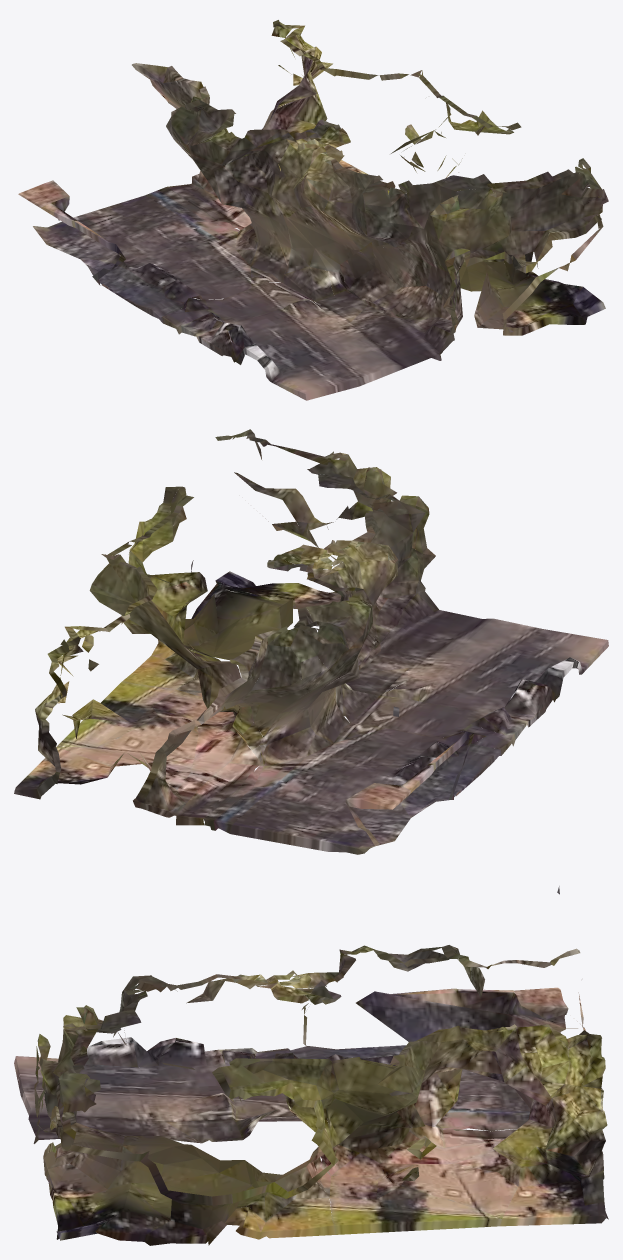
3 views of the same model, one above another, from view 1: azimuth 30°, elevation 25°; view 2: azimuth 150°, elevation 25°; view 3: azimuth 270°, elevation 25° (orthographic). The views are drawn at different scales.
Visible parts, largest first — view 1: Mesh_0; view 2: Mesh_0; view 3: Mesh_0.
Boxes of the visible parts, box(x1,y1,x2,y2) form: Mesh_0: box(18, 20, 608, 400); Mesh_0: box(14, 429, 608, 854); Mesh_0: box(14, 886, 608, 1245).
Size of the model in its own units: 34.18 by 13.28 by 41.33.
2 materials, 2 textured.
